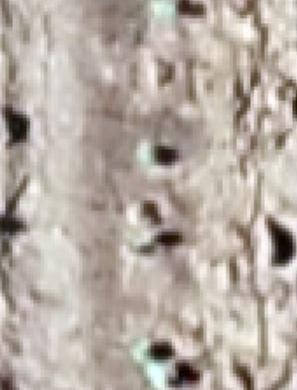cotton: (146, 363, 168, 388), (152, 2, 179, 16), (132, 341, 150, 361), (132, 239, 153, 253), (142, 146, 156, 162)
